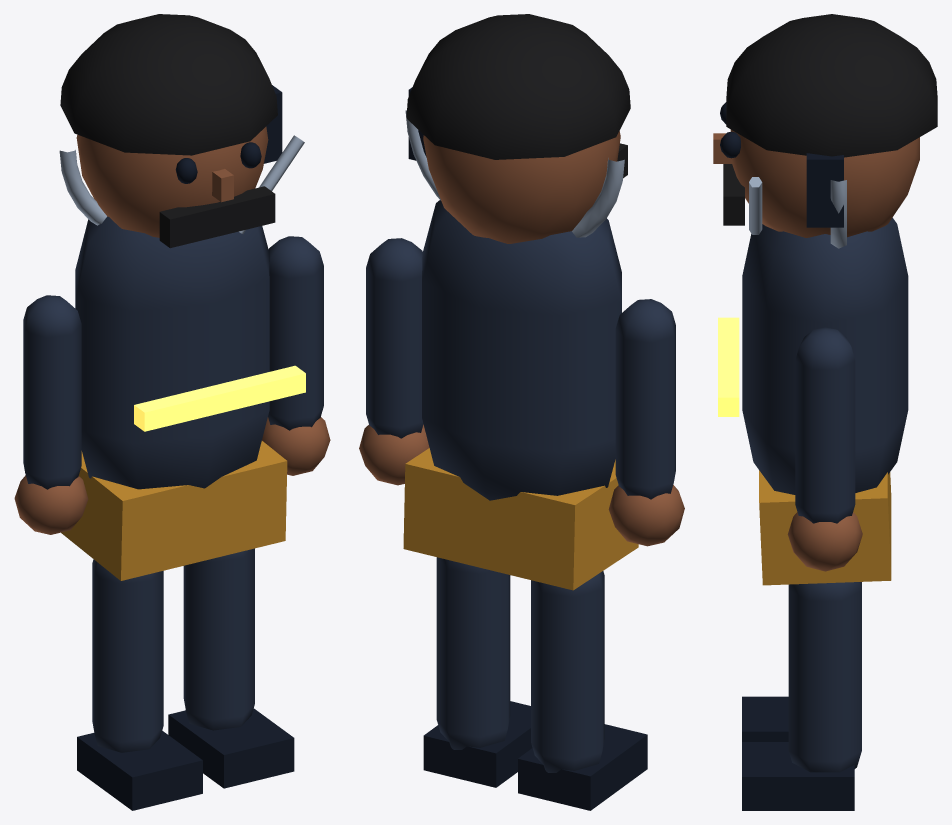
Rendered from jefferson.glb.
3 renders of one model, left to right at view 1: azimuth 30°, elevation 25°; view 2: azimuth 150°, elevation 25°; view 3: azimuth 270°, elevation 25°, orthographic. The views are drawn at different scales.
Visible parts, largest first — view 1: torso, hair, hips, left-leg-mesh, right-leg-mesh, left-arm-mesh, face, right-arm-mesh, left-leg-shoe, right-leg-shoe, chest-accent, beard (+6 smaller); view 2: torso, hair, hips, left-leg-mesh, face, right-leg-mesh, left-arm-mesh, right-arm-mesh, left-leg-shoe, right-leg-shoe, left-hand, right-hand (+1 smaller); view 3: torso, hair, right-leg-mesh, right-arm-mesh, face, hips, right-leg-shoe, right-hand, headset-ear, chest-accent, left-leg-shoe, beard (+3 smaller).
Boxes of the visible parts, x1,y1,x2,y2 form: torso: (75,216,269,489); hair: (60,14,277,155); hips: (61,441,287,580); left-leg-mesh: (92,559,163,752); right-leg-mesh: (183,548,254,730); left-arm-mesh: (23,295,81,489); face: (76,126,268,237); right-arm-mesh: (268,236,323,430); left-leg-shoe: (77,730,202,810); right-leg-shoe: (168,708,294,788); chest-accent: (134,365,305,431); beard: (159,186,275,248); torso: (422,200,621,500); hair: (406,14,630,159); hips: (403,448,638,590); left-leg-mesh: (531,571,604,772); face: (423,131,620,243); right-leg-mesh: (436,557,510,749); left-arm-mesh: (615,299,675,499); right-arm-mesh: (366,238,423,438); left-leg-shoe: (518,724,647,810); right-leg-shoe: (423,701,532,787); left-hand: (608,485,684,546); right-hand: (359,424,429,485); torso: (742,217,908,494); hair: (726,14,937,157); right-leg-mesh: (788,582,861,772); right-arm-mesh: (795,327,855,523); face: (730,129,919,237); hips: (759,470,891,585); right-leg-shoe: (742,742,854,810); right-hand: (787,512,862,571); headset-ear: (806,153,843,227); chest-accent: (718,317,739,416); left-leg-shoe: (742,696,788,741); beard: (723,164,744,225).
Size of the model in its own units: 1.34 by 3.06 by 0.8364.
